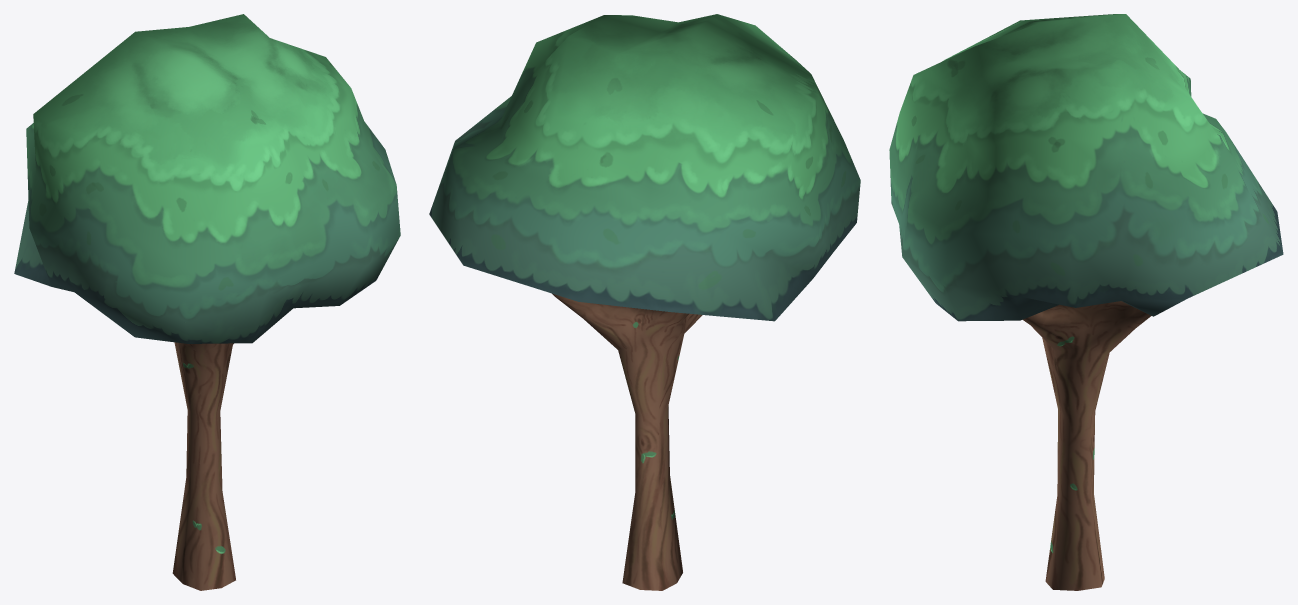
File: stylized_hand-painted_tree.obj
3 views of the same model, side by side, from view 1: azimuth 30°, elevation 25°; view 2: azimuth 150°, elevation 25°; view 3: azimuth 270°, elevation 25° (orthographic).
Visible parts, largest first — view 1: obj1; view 2: obj1; view 3: obj1.
Part boxes in pixels (x1,y1,x2,y2): obj1: (14,14,400,590); obj1: (429,14,860,590); obj1: (889,14,1283,590).
Size of the model in its own units: 6.06 by 9.42 by 6.15.
Materials: 1 (1 with a texture image).
